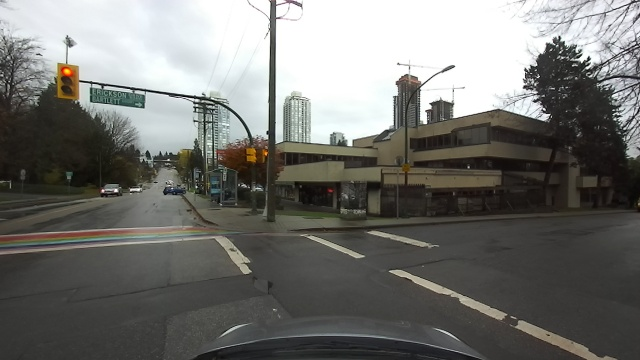car: (160, 183, 187, 196), (99, 182, 122, 197), (129, 184, 142, 194)
